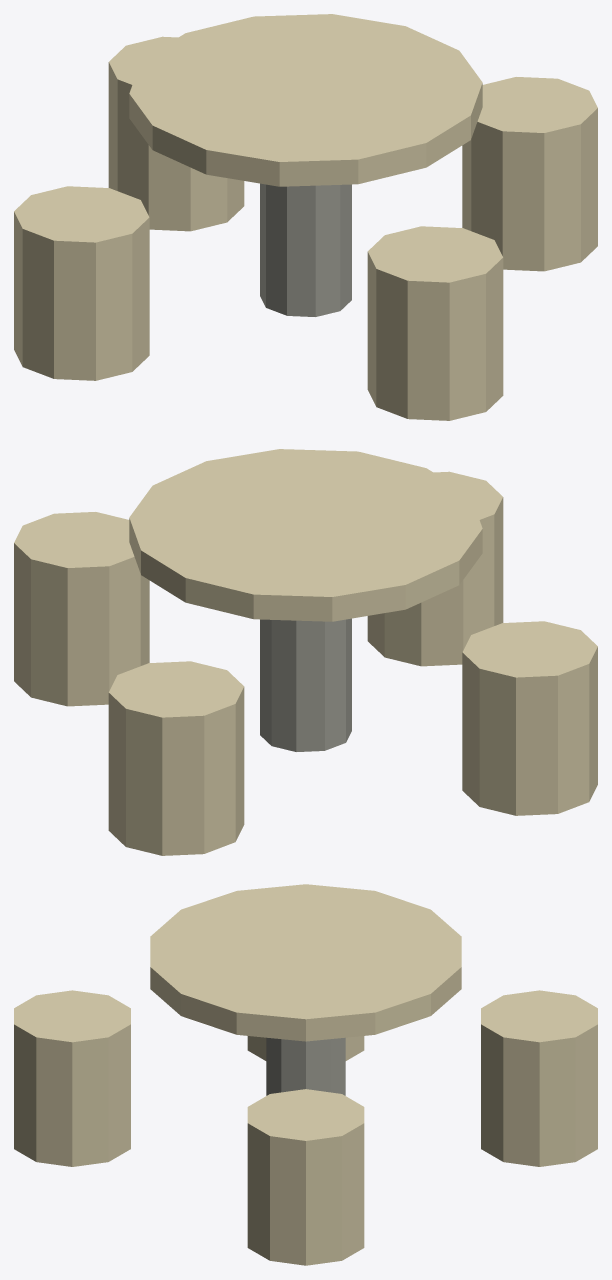
File: stone_table.glb
3 views of the same model, one above another, from view 1: azimuth 30°, elevation 25°; view 2: azimuth 150°, elevation 25°; view 3: azimuth 270°, elevation 25° (orthographic). The views are drawn at different scales.
Visible parts, largest first — view 1: stone_table; view 2: stone_table; view 3: stone_table.
Part boxes in pixels (x1,y1,x2,y2): stone_table: (14,14,597,420); stone_table: (14,449,597,855); stone_table: (14,884,597,1265).
Size of the model in its own units: 2.4 by 0.85 by 2.38.
